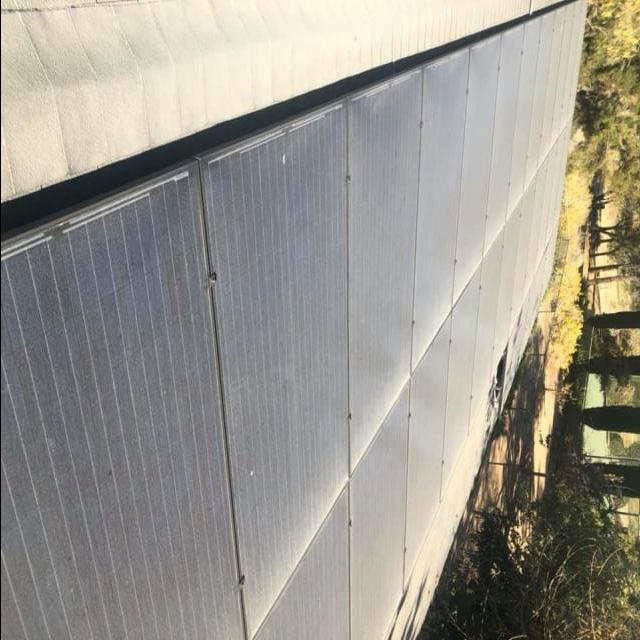soiled: (5, 6, 586, 640)
